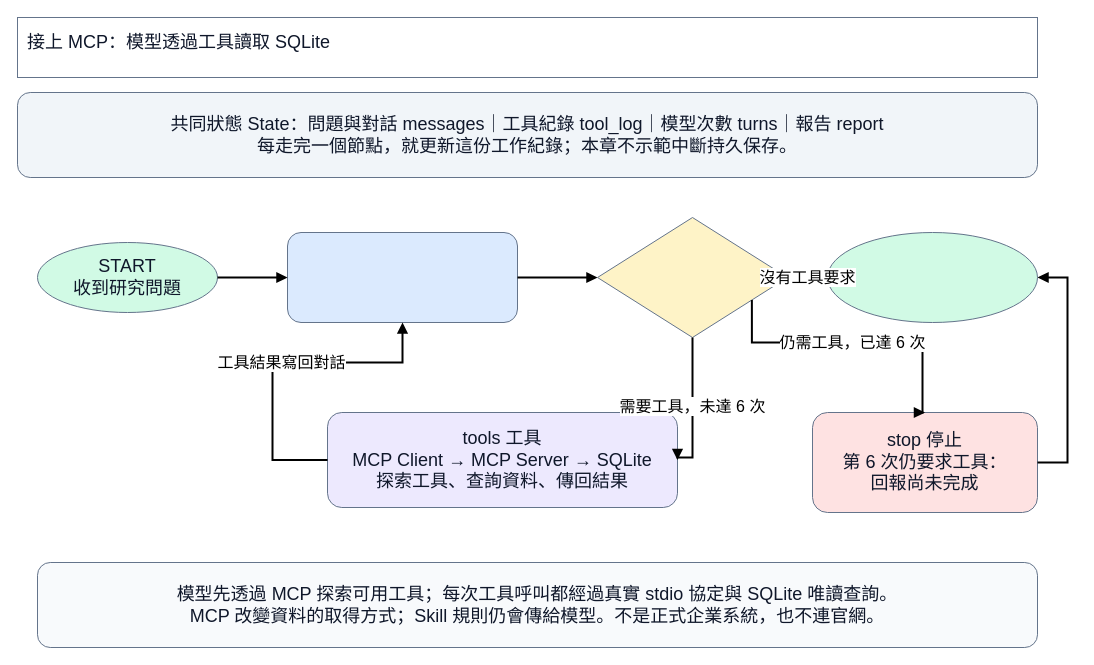
This 1094x665 diagram has some shape labels left out. Here are the shapes that lost their labels. From the top down, the centre of each, then its label:
point (402, 277): model 模型 讀問題、證據與規則
point (692, 277): 接著做什麼？
point (932, 277): END 交付回答或待確認
